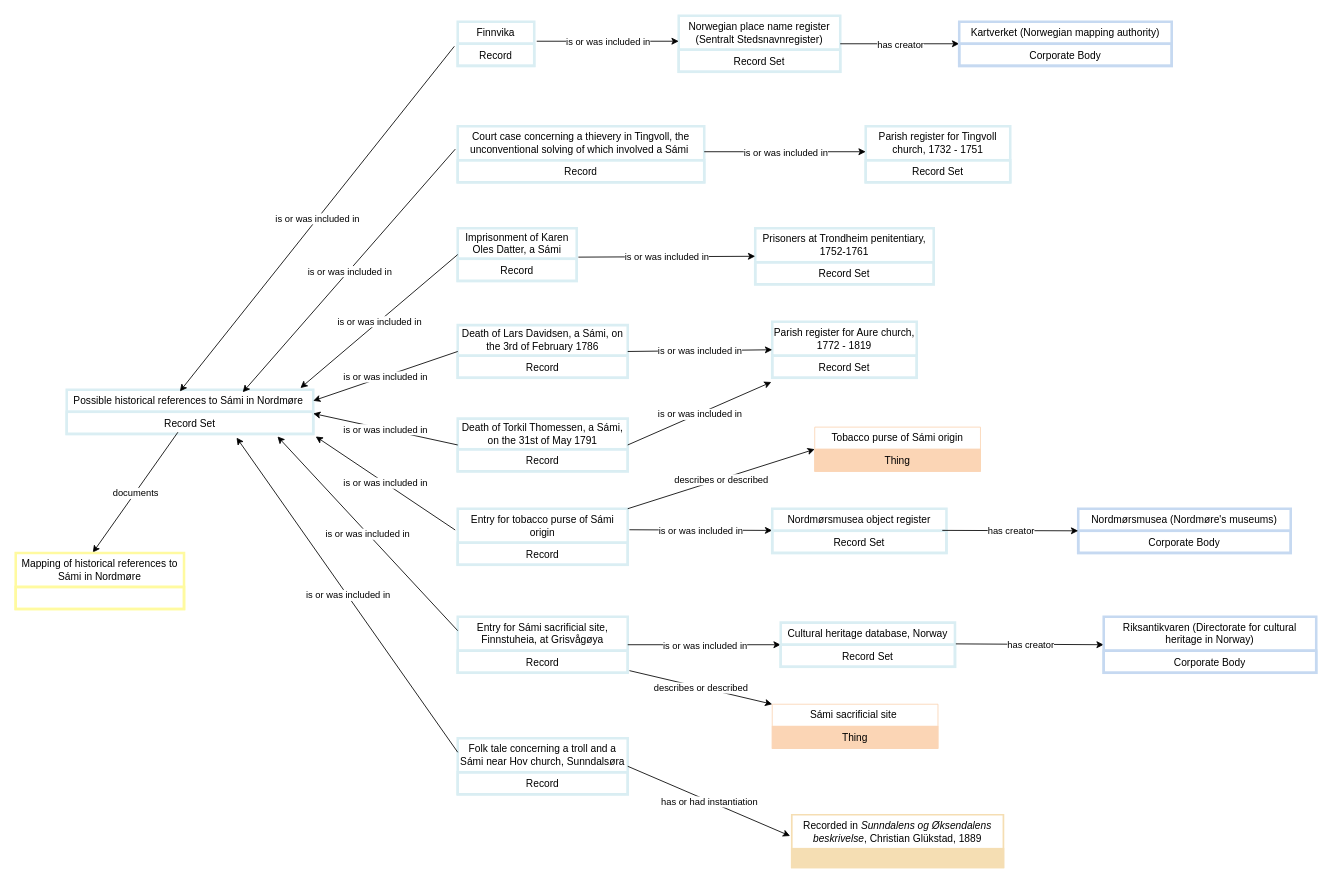
Some shapes in this 1332 by 885 pixel diagram are drawn without their labels. The shapes that lost their labels are listed below. From the top down, each one's centre as x and y in pixels, then its label:
the point at 99,597: Activity
the point at 897,857: Instantiation
